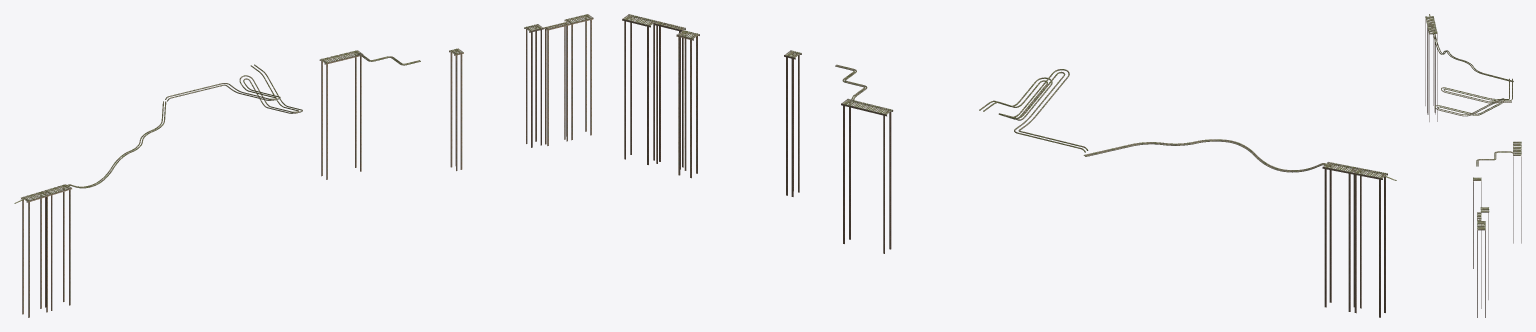
3 views of the same model, side by side, from view 1: azimuth 30°, elevation 25°; view 2: azimuth 150°, elevation 25°; view 3: azimuth 270°, elevation 25° (orthographic). The views are drawn at different scales.
Visible parts, largest first — view 1: ramp.019, ramp, ramp.005, ramp.008, ramp.009, pipe.001, ramp.001, pipe; view 2: ramp.019, ramp, ramp.009, ramp.001, pipe.001, ramp.008, ramp.005, pipe; view 3: ramp.019, pipe.001, ramp, ramp.001, pipe, ramp.005, ramp.009, ramp.008, pipe.007.
Part boxes in pixels (x1,y1,x2,y2): ramp.019: [21, 184, 71, 317]; ramp: [319, 50, 363, 179]; ramp.005: [449, 48, 463, 170]; ramp.008: [543, 22, 569, 145]; ramp.009: [524, 24, 543, 147]; pipe.001: [165, 64, 302, 113]; ramp.001: [564, 14, 593, 140]; pipe: [66, 101, 166, 188]; ramp.019: [1322, 162, 1387, 317]; ramp: [841, 98, 893, 253]; ramp.009: [676, 30, 699, 178]; ramp.001: [622, 14, 656, 164]; pipe.001: [979, 69, 1088, 152]; ramp.008: [654, 21, 685, 169]; ramp.005: [784, 50, 801, 196]; pipe: [1083, 139, 1327, 172]; ramp.019: [1425, 16, 1437, 121]; pipe.001: [1435, 78, 1512, 116]; ramp: [1513, 141, 1521, 243]; ramp.001: [1477, 221, 1485, 317]; pipe: [1432, 33, 1513, 81]; ramp.005: [1473, 177, 1481, 268]; ramp.009: [1480, 207, 1489, 299]; ramp.008: [1477, 212, 1481, 308]; pipe.007: [1476, 151, 1513, 166].
Size of the model in its own units: 12717 by 2954 by 2293.
